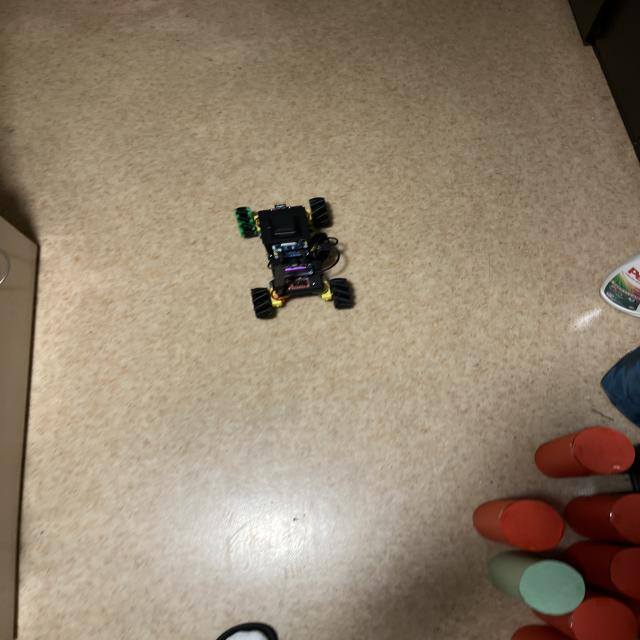robot: (235, 197, 354, 319)
